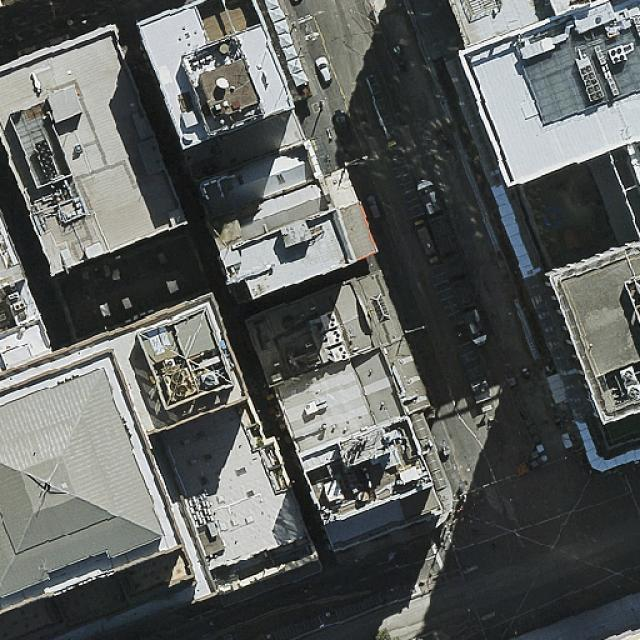Bike-Symbols: (303, 20, 313, 33)
